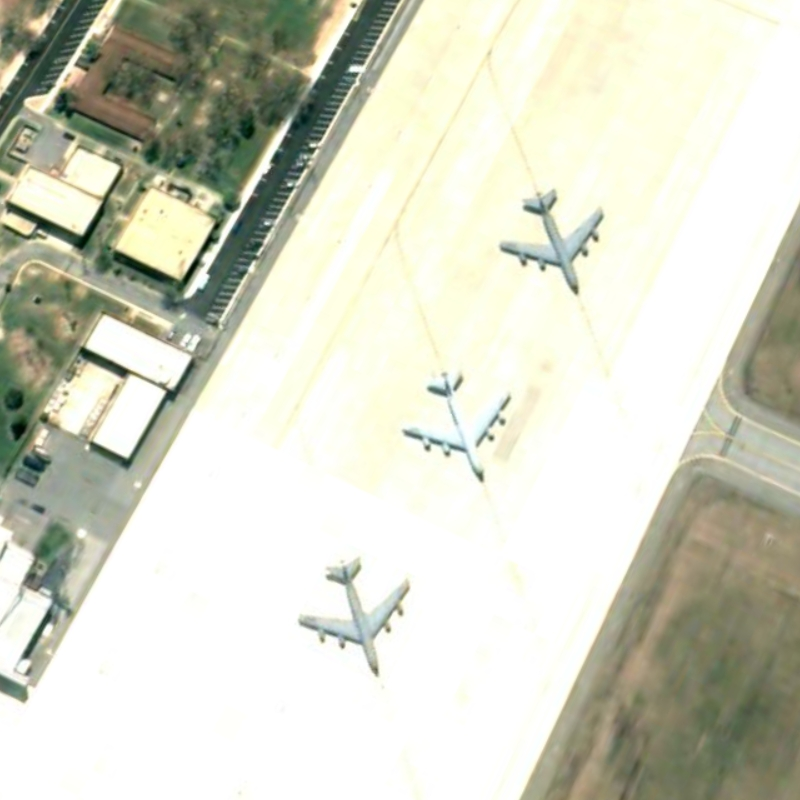A11: (399, 365, 515, 488)
A14: (294, 551, 417, 682), (497, 185, 610, 300)
